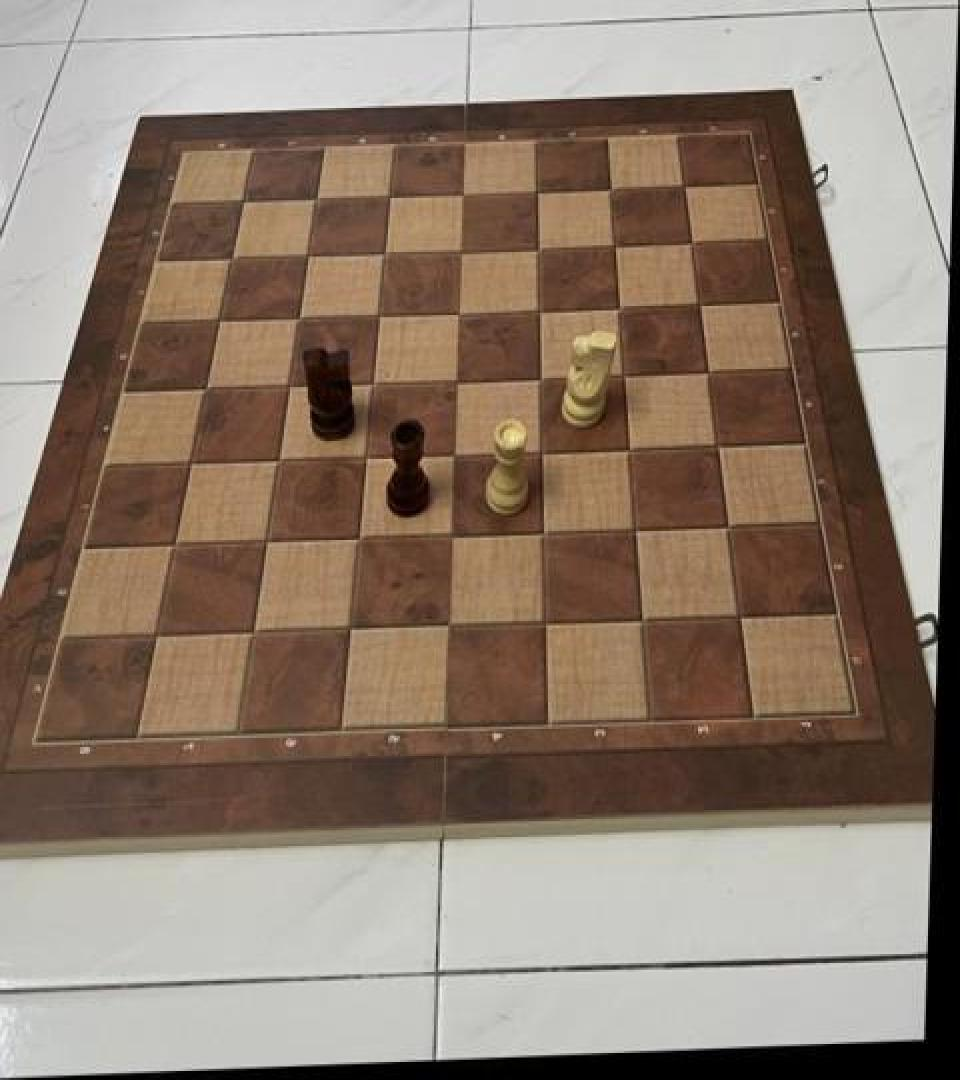xcorner: (523, 174, 557, 213), (294, 237, 328, 276), (605, 290, 639, 329), (434, 606, 468, 645), (228, 184, 262, 222), (302, 181, 336, 219), (376, 179, 410, 217), (450, 177, 484, 215), (597, 172, 631, 210), (670, 170, 704, 208), (217, 240, 251, 278), (371, 235, 405, 273), (447, 233, 481, 271), (524, 231, 558, 269), (601, 228, 635, 266), (678, 226, 712, 264), (204, 302, 238, 340), (285, 300, 319, 338), (365, 297, 399, 335), (445, 295, 479, 333), (525, 292, 559, 330), (685, 288, 719, 326), (191, 370, 225, 408), (275, 367, 309, 405), (359, 364, 393, 402), (443, 362, 477, 400), (526, 359, 560, 397), (610, 357, 644, 395), (694, 354, 728, 392), (176, 444, 210, 482), (264, 441, 298, 479), (352, 439, 386, 477), (440, 436, 474, 474), (528, 433, 562, 471), (615, 430, 649, 468), (703, 428, 737, 466), (159, 526, 193, 564), (252, 523, 286, 561), (345, 520, 379, 558), (437, 518, 471, 556), (529, 514, 563, 552), (621, 511, 655, 549), (713, 508, 747, 546), (141, 616, 175, 654), (239, 613, 273, 651), (336, 610, 370, 648), (531, 604, 565, 642), (628, 601, 662, 639), (725, 598, 759, 636)
